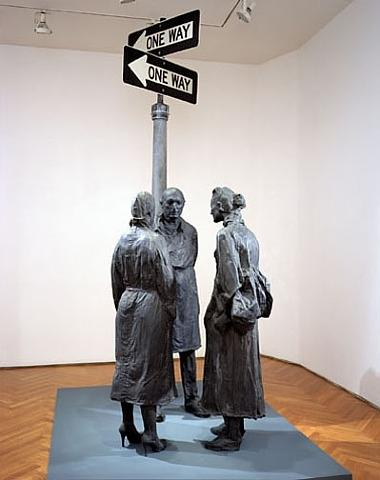person: (108, 190, 176, 455), (206, 182, 270, 450), (153, 186, 216, 419)
